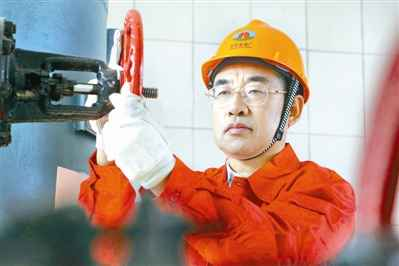safetyhat: (160, 12, 342, 255)
